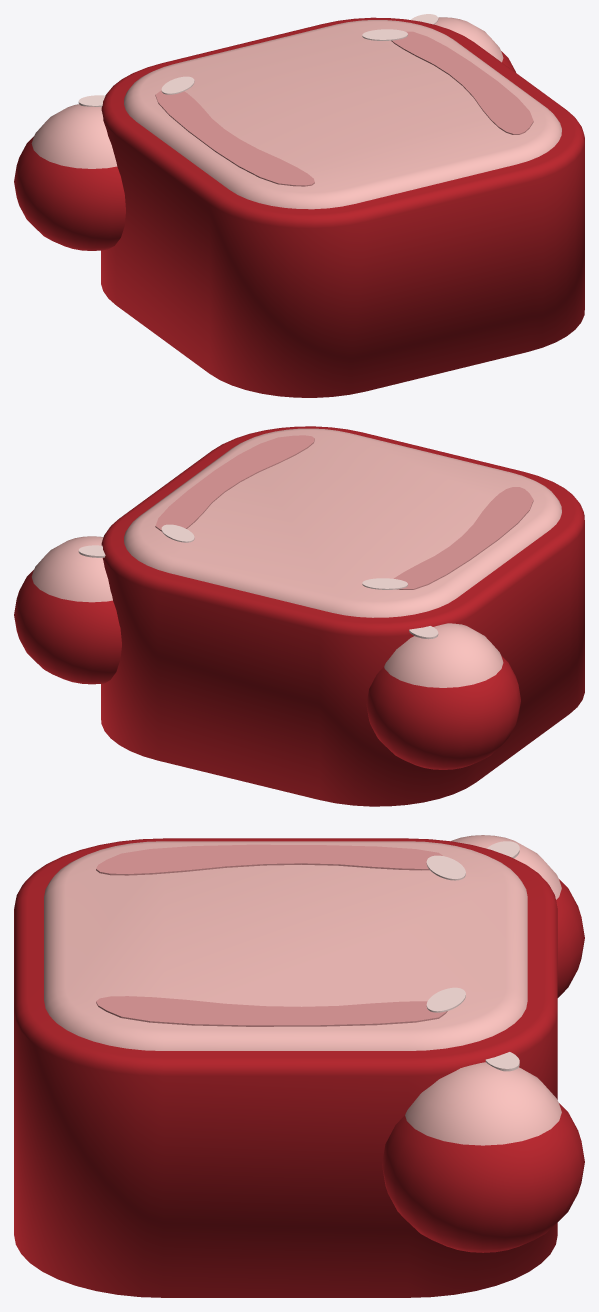
Rendered from body_basico_rosado.fbx.
The picture shows the model from 3 angles, top to bottom: view 1: azimuth 30°, elevation 25°; view 2: azimuth 150°, elevation 25°; view 3: azimuth 270°, elevation 25°; orthographic projection. The views are drawn at different scales.
Visible parts, largest first — view 1: body_basico_rosado_corpo, body_basico_rosado_mao_esq, body_basico_rosado_mao; view 2: body_basico_rosado_corpo, body_basico_rosado_mao_esq, body_basico_rosado_mao; view 3: body_basico_rosado_corpo, body_basico_rosado_mao, body_basico_rosado_mao_esq.
Part boxes in pixels (<box>): body_basico_rosado_corpo: <box>101,17,584,397</box>; body_basico_rosado_mao_esq: <box>14,95,125,250</box>; body_basico_rosado_mao: <box>411,14,515,72</box>; body_basico_rosado_corpo: <box>101,426,584,806</box>; body_basico_rosado_mao_esq: <box>366,623,520,769</box>; body_basico_rosado_mao: <box>14,536,121,684</box>; body_basico_rosado_corpo: <box>14,838,557,1297</box>; body_basico_rosado_mao: <box>382,1052,584,1252</box>; body_basico_rosado_mao_esq: <box>451,835,584,997</box>.
Size of the model in its own units: 5.4 by 2.03 by 4.2.
1 material, 1 textured.
